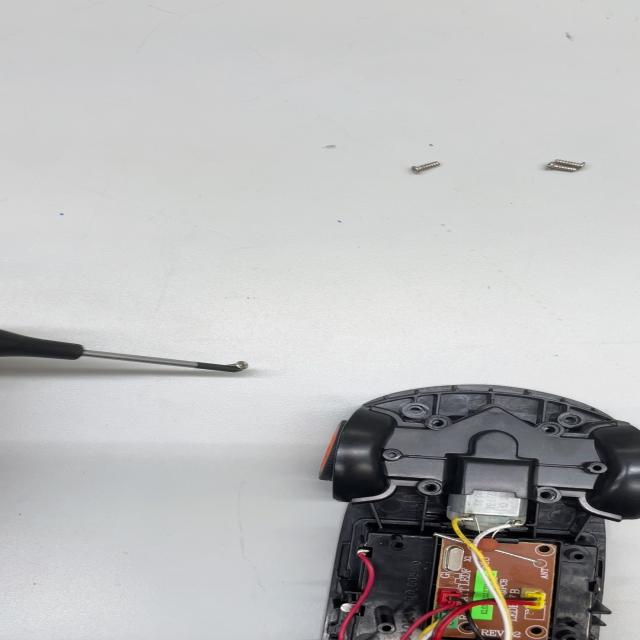Chassis: (342, 382, 614, 639)
motor_cover: (326, 400, 640, 498)
screw: (545, 153, 589, 177), (405, 156, 448, 174)
screw_driver: (2, 327, 247, 383)
